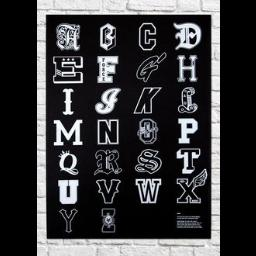c: (134, 21, 158, 51)
i: (56, 88, 84, 114)
m: (52, 118, 86, 146)
n: (96, 116, 120, 148)
p: (172, 118, 204, 146)
r: (92, 148, 120, 178)
u: (52, 180, 84, 204)
v: (96, 178, 120, 208)
w: (134, 176, 162, 204)
y: (60, 208, 80, 236)
